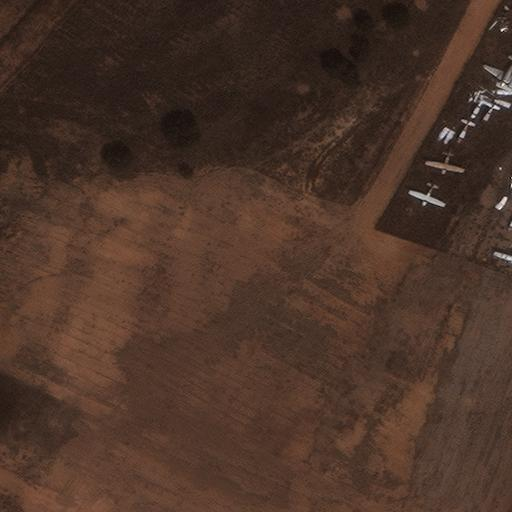Small Civil Transport: (425, 148, 463, 174), (481, 57, 511, 86), (408, 183, 444, 206), (493, 245, 511, 264)
